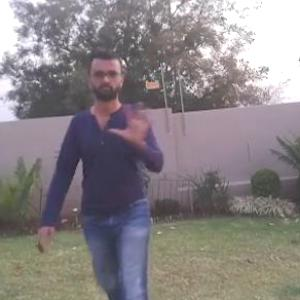follow_hand: (108, 101, 153, 148)
